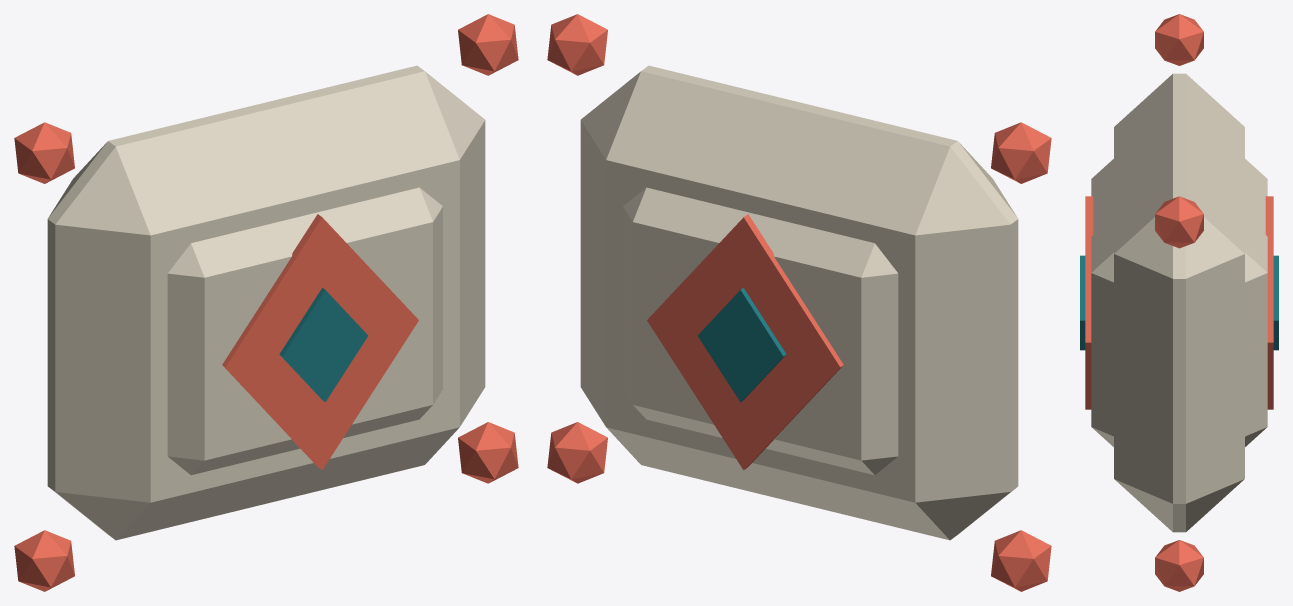
The model's file is cushion_square.glb.
3 views of the same model, side by side, from view 1: azimuth 30°, elevation 25°; view 2: azimuth 150°, elevation 25°; view 3: azimuth 270°, elevation 25° (orthographic). The views are drawn at different scales.
Parts seen in each view (by area): view 1: cushion_square; view 2: cushion_square; view 3: cushion_square.
Boxes of the visible parts, <box> form: cushion_square: <box>14,14,518,591</box>; cushion_square: <box>547,14,1051,591</box>; cushion_square: <box>1080,14,1278,591</box>.
Bounding box in the file's own units: 0.3694 × 0.334 × 0.152.
